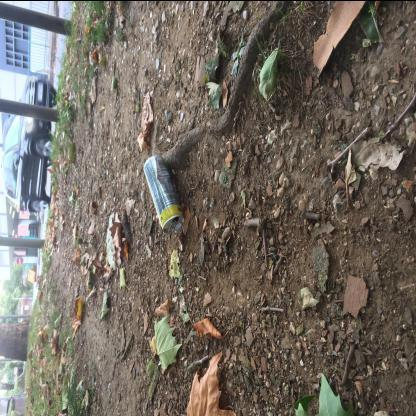metal: (143, 155, 186, 234)
